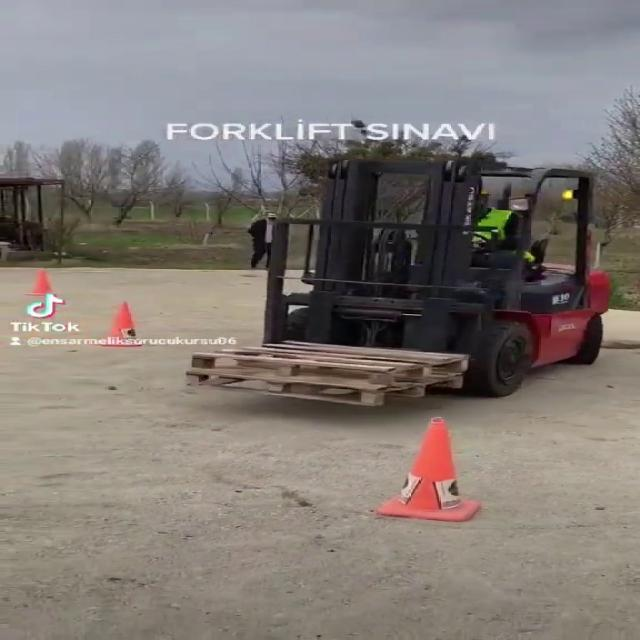forklift: (252, 157, 605, 397)
pallets: (165, 323, 477, 426)
person: (425, 182, 549, 262)
